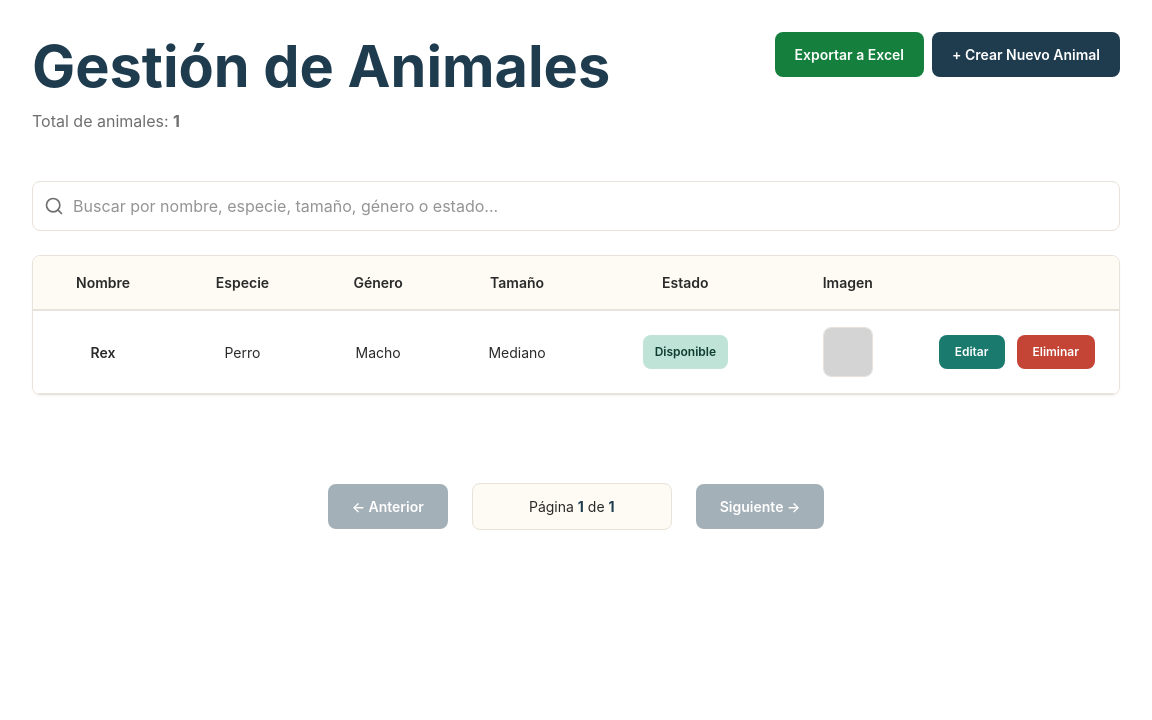
Test: search › shows no-match message when search finds nothing
Type "zzznomatch" into the field with placeholder "Buscar por nombre, especie, tamaño, género o estado..." at [576, 206], box [32, 181, 1120, 231]
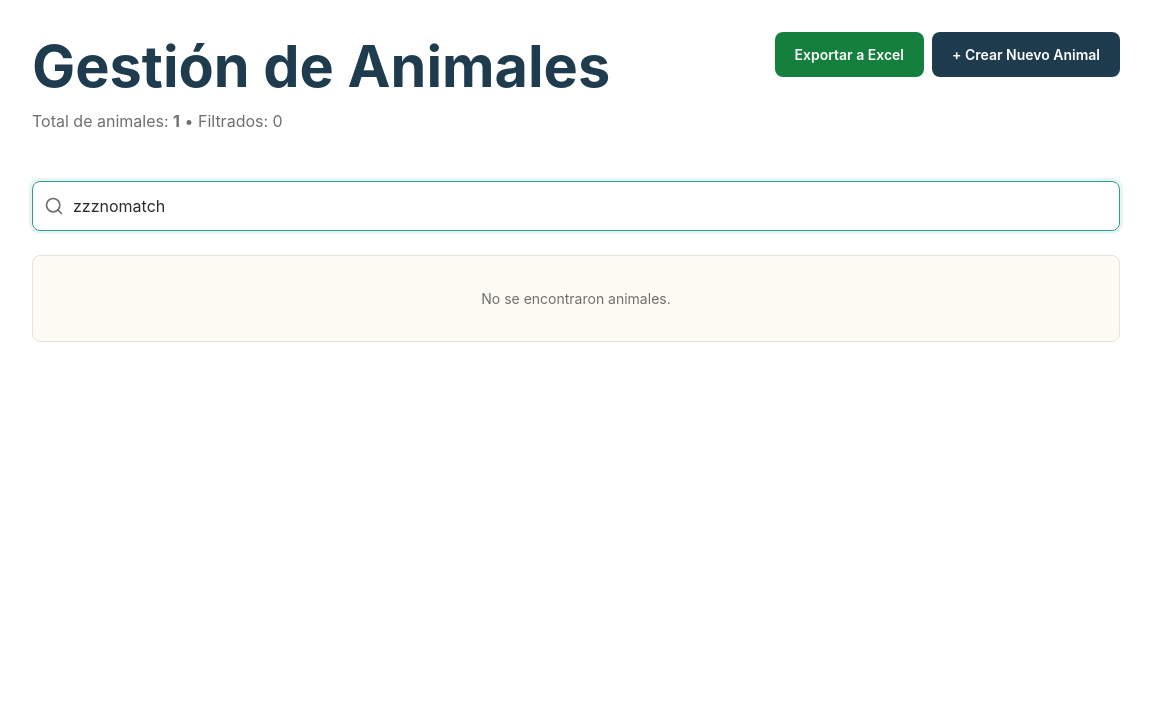
Check: the text "No se encontraron animales." is shown, box [481, 290, 671, 307]
